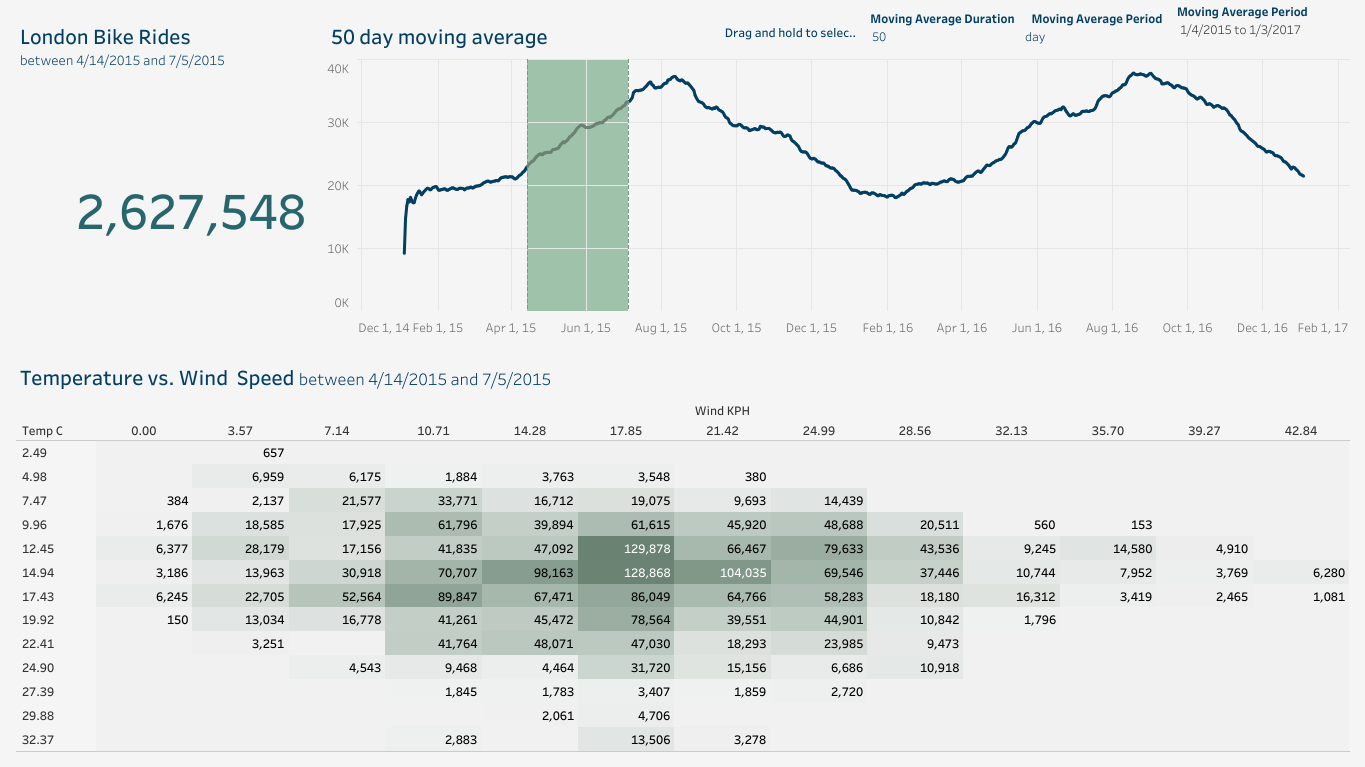

The dashboard page shown, as its layout file describes it:
{"tool":"tableau","page":{"name":"Dashboard 1","canvas":[1366,768],"ordinal":0},"visuals":[{"type":"filter","title":"MovingAverage","param":"[federated.0dam7v009rn6z311xv17515b49wb].[none:Calculation_54887677458395136:qk]","box":[1177,1,168,69]},{"type":"worksheet","title":"TotalRides","mark":"Automatic","box":[8,8,311,341]},{"type":"worksheet","title":"MovingAverage","mark":"Automatic","rows":["Calculation1"],"cols":["Calculation_54887677458395136"],"box":[319,8,1039,341]},{"type":"parameter","param":"[Parameters].[Parameter 2]","box":[870,8,145,44]},{"type":"parameter","param":"[Parameters].[Parameter 1]","box":[1023,8,148,44]},{"type":"text","box":[722,15,137,34]},{"type":"worksheet","title":"Heatmap","mark":"Square","rows":["temp real C (bin)"],"cols":["Wind Speed Kph (bin)"],"box":[8,349,1350,411]}]}

Visuals, with their boxes in screenshot pixels (x1, y1, x2, y2), scaled from the page's 1366x768 canvas onto the 1365x767 screenshot:
"MovingAverage" filter: [left=1176, top=1, right=1344, bottom=70]
"TotalRides" worksheet: [left=8, top=8, right=319, bottom=349]
"MovingAverage" worksheet: [left=319, top=8, right=1357, bottom=349]
parameter: [left=869, top=8, right=1014, bottom=52]
parameter: [left=1022, top=8, right=1170, bottom=52]
text: [left=721, top=15, right=858, bottom=49]
"Heatmap" worksheet (Square marks): [left=8, top=349, right=1357, bottom=759]
